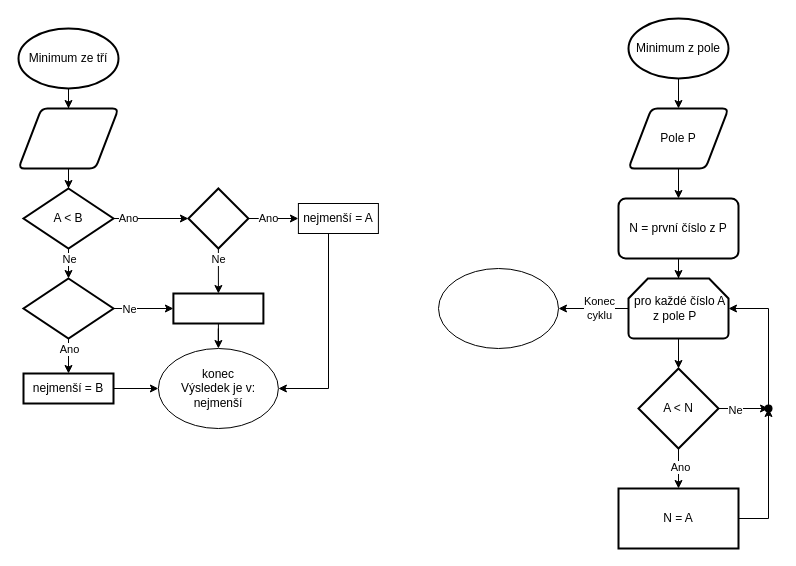
This 796x566 diagram has some shape labels left out. The shapes that lost their labels are listed below. From the top down, each one's centre as x and y in pixels, then its label:
At pixel 68 138: "A, B, C reálná čísla".
At pixel 218 218: "A < C".
At pixel 68 308: "B < C".
At pixel 218 308: "nejmenší = C".
At pixel 498 308: "Konec. Výsledek je v: N".
